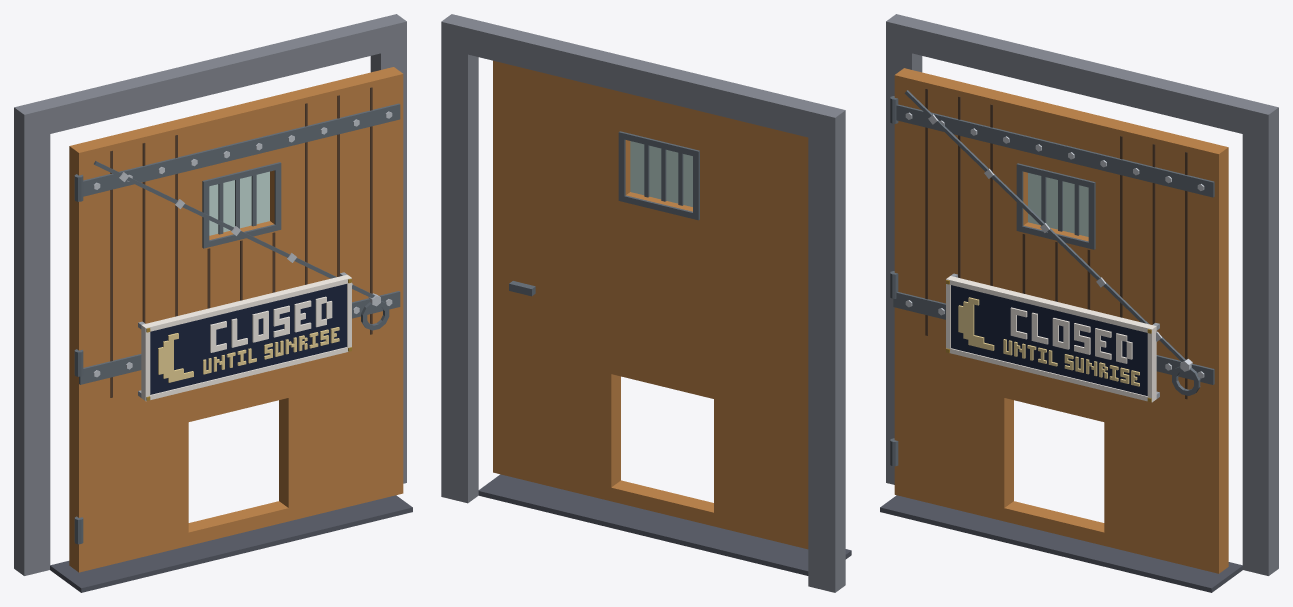
Rendered from CatCafe_Door_Drawbridge_Back.glb.
3 renders of one model, left to right at view 1: azimuth 30°, elevation 25°; view 2: azimuth 150°, elevation 25°; view 3: azimuth 330°, elevation 25°, orthographic. The views are drawn at different scales.
Visible parts, largest first — view 1: CatCafe_Door_Drawbridge_Back_Leaf, CatCafe_Door_Drawbridge_Back, CatCafe_Door_Drawbridge_Back_Sign, CatCafe_Door_Drawbridge_Back_Leaf_Glass, CatCafe_Door_Drawbridge_Back_Sign_Bulb; view 2: CatCafe_Door_Drawbridge_Back_Leaf, CatCafe_Door_Drawbridge_Back, CatCafe_Door_Drawbridge_Back_Leaf_Glass; view 3: CatCafe_Door_Drawbridge_Back_Leaf, CatCafe_Door_Drawbridge_Back, CatCafe_Door_Drawbridge_Back_Sign, CatCafe_Door_Drawbridge_Back_Sign_Bulb, CatCafe_Door_Drawbridge_Back_Leaf_Glass.
Boxes of the visible parts, x1,y1,x2,y2 form: CatCafe_Door_Drawbridge_Back_Leaf: (69,67,403,572); CatCafe_Door_Drawbridge_Back: (14,14,412,592); CatCafe_Door_Drawbridge_Back_Sign: (138,272,351,401); CatCafe_Door_Drawbridge_Back_Leaf_Glass: (209,171,269,235); CatCafe_Door_Drawbridge_Back_Sign_Bulb: (158,327,339,382); CatCafe_Door_Drawbridge_Back_Leaf: (493,60,808,549); CatCafe_Door_Drawbridge_Back: (441,14,851,592); CatCafe_Door_Drawbridge_Back_Leaf_Glass: (630,141,692,206); CatCafe_Door_Drawbridge_Back_Leaf: (890,68,1228,573); CatCafe_Door_Drawbridge_Back: (880,14,1278,592); CatCafe_Door_Drawbridge_Back_Sign: (946,273,1159,402); CatCafe_Door_Drawbridge_Back_Sign_Bulb: (958,297,1139,386); CatCafe_Door_Drawbridge_Back_Leaf_Glass: (1028,173,1088,236).
Bounding box in the file's own units: 6.9 × 7.95 × 1.3.
1 material, 1 textured.
